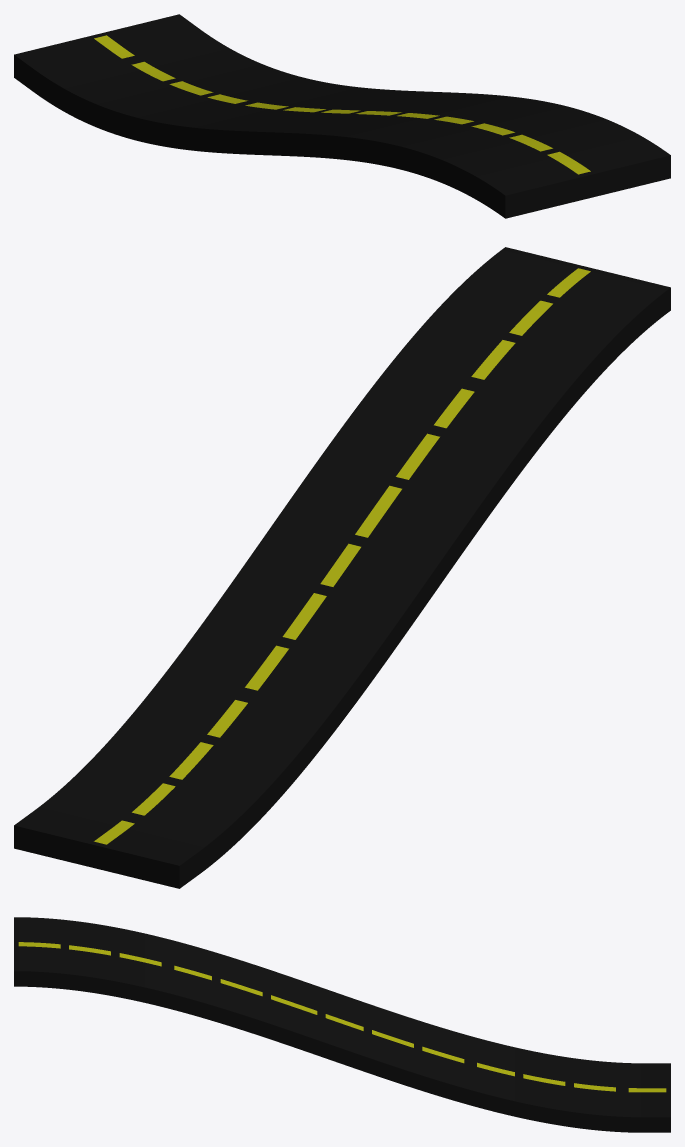
Rendered from RoadSegmentUp.fbx.
3 views of the same model, one above another, from view 1: azimuth 30°, elevation 25°; view 2: azimuth 150°, elevation 25°; view 3: azimuth 270°, elevation 25° (orthographic). The views are drawn at different scales.
Visible parts, largest first — view 1: Cube.001; view 2: Cube.001; view 3: Cube.001.
Boxes of the visible parts, x1,y1,x2,y2 form: Cube.001: (14,14,670,218); Cube.001: (14,247,670,888); Cube.001: (14,917,670,1132).
Size of the model in its own units: 1109 by 1548 by 5703.
